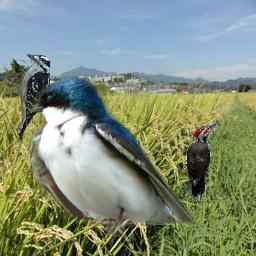Swallow: (26, 74, 198, 249)
Woodpecker: (9, 53, 56, 141), (179, 122, 220, 201)
